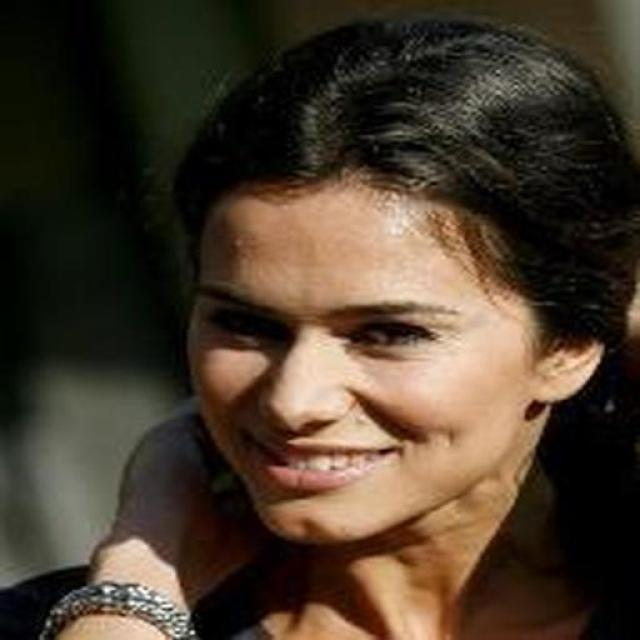bareface: (176, 66, 639, 544)
